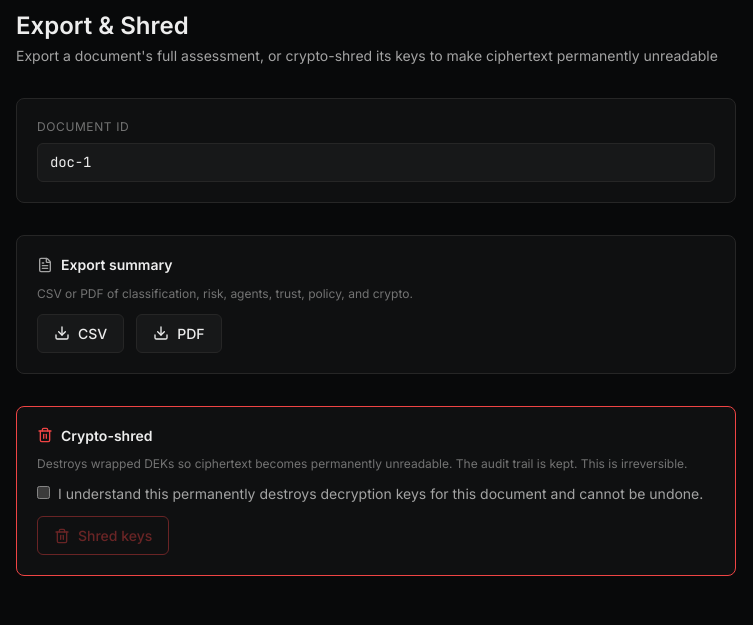
it: SummaryScreen › keeps shred disabled until confirmation is checked
Expected: the button "Shred keys" is disabled, [37,516,169,555]
Click the checkbox labelled "permanently destroys decryption keys".
click(44, 492)  # box [37,486,50,499]
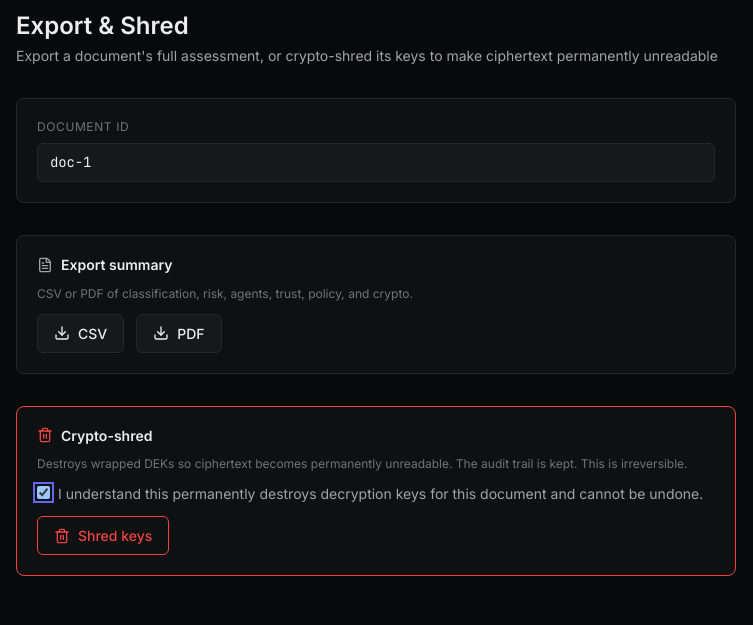
Now the button "Shred keys" is enabled
Click the button "Shred keys".
click(103, 536)  # box [37,516,169,555]
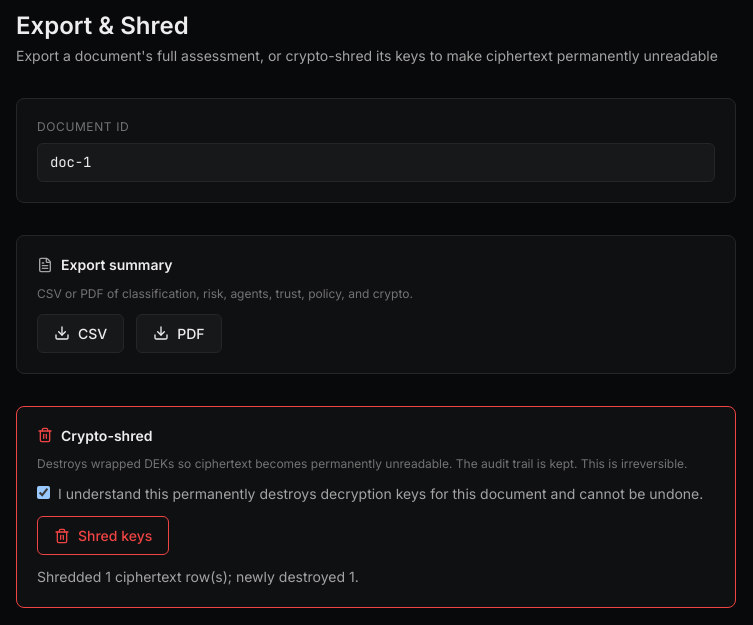
Now the text "Shredded 1 ciphertext row(s); newly destroyed 1." is shown, box [37,568,359,585]
